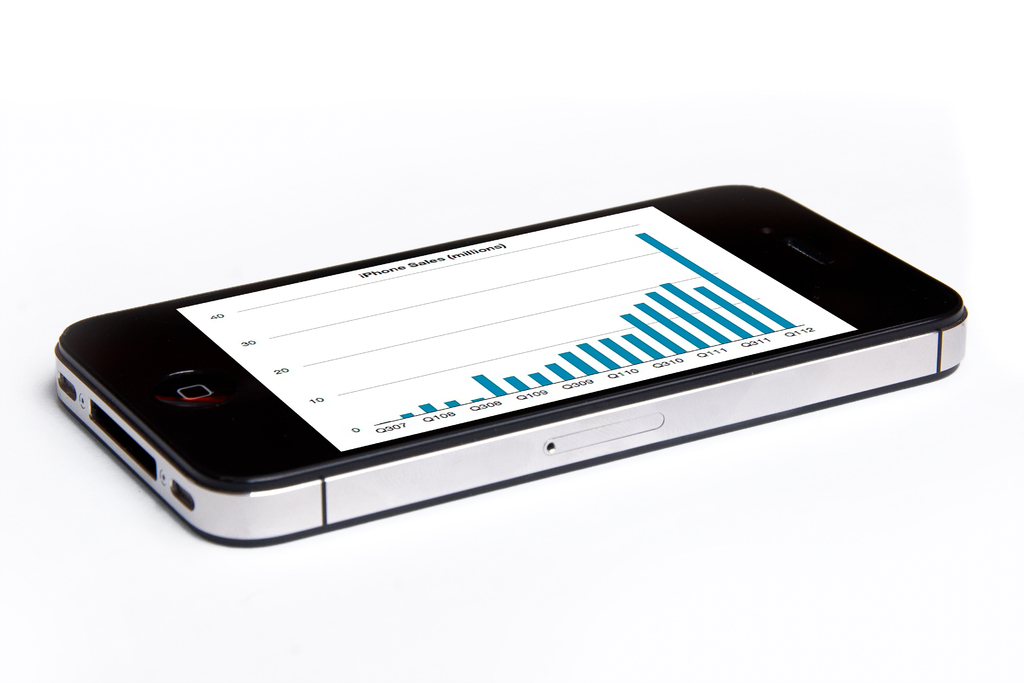mobile phone: (9, 179, 961, 548)
